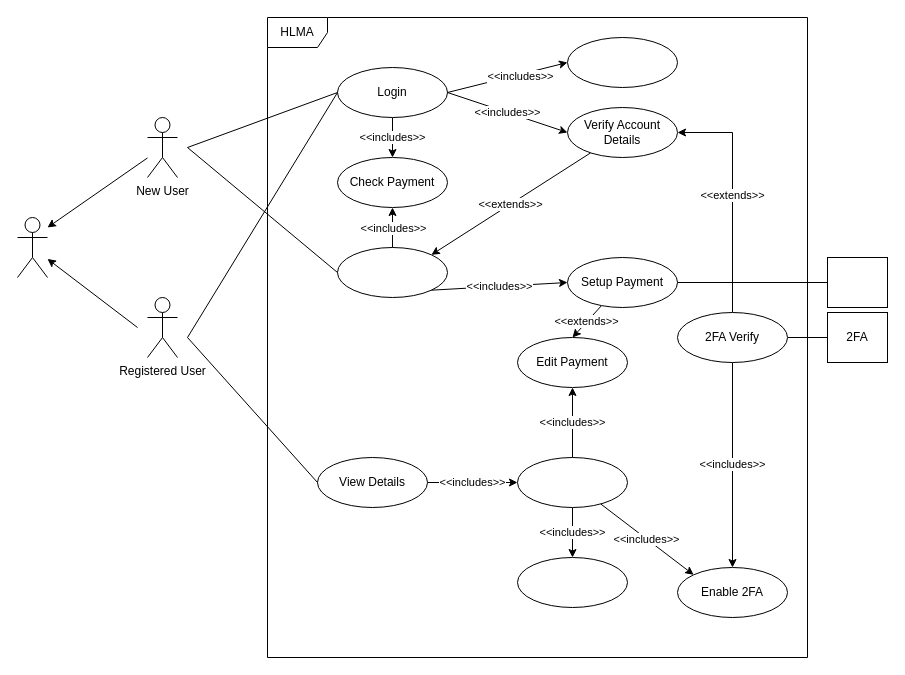
Image size: 905x675. Some labels were removed from this diagram. Each missing label, with the centre of its shape:
"Check Login Count" goes at point (622, 62).
"Create Account" goes at point (392, 272).
"Deactivate Account" goes at point (572, 582).
"Edit Details" goes at point (572, 482).
"Payment Process" goes at point (857, 282).
"User" goes at point (32, 247).
